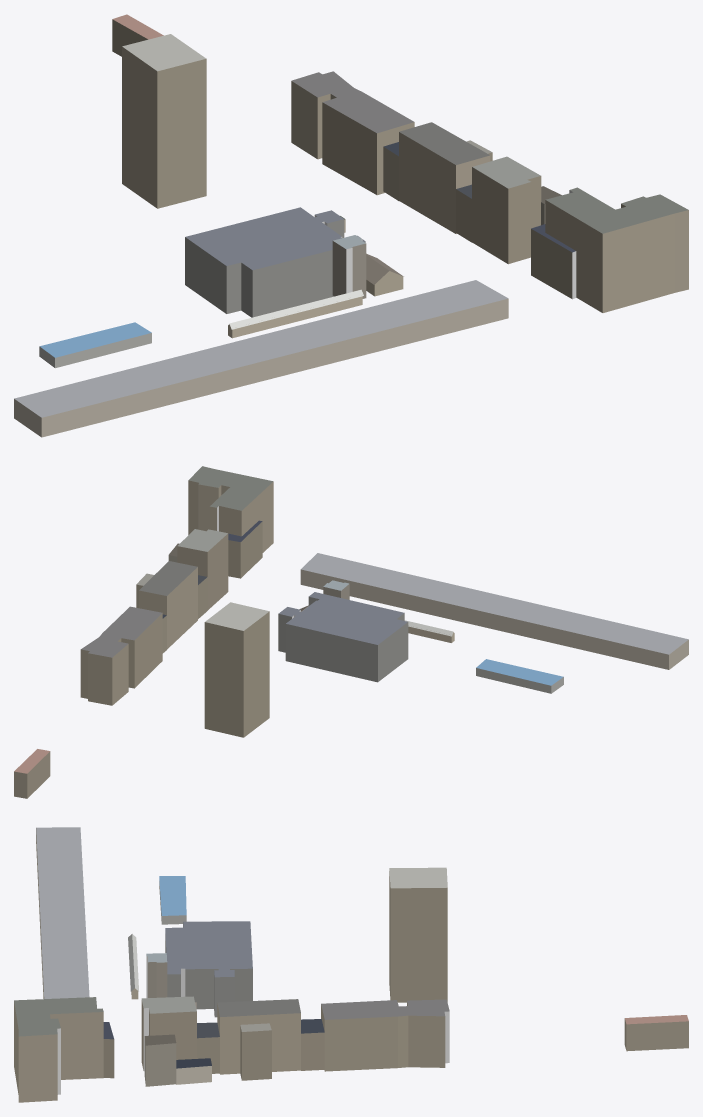
3 views of the same model, one above another, from view 1: azimuth 30°, elevation 25°; view 2: azimuth 150°, elevation 25°; view 3: azimuth 270°, elevation 25° (orthographic). The views are drawn at different scales.
Visible parts, largest first — view 1: tuile; view 2: tuile; view 3: tuile.
Part boxes in pixels (x1,y1,x2,y2): tuile: (14,14,688,437); tuile: (14,466,688,798); tuile: (14,827,688,1102).
Bounding box in the file's own units: 244 × 52.27 × 268.
